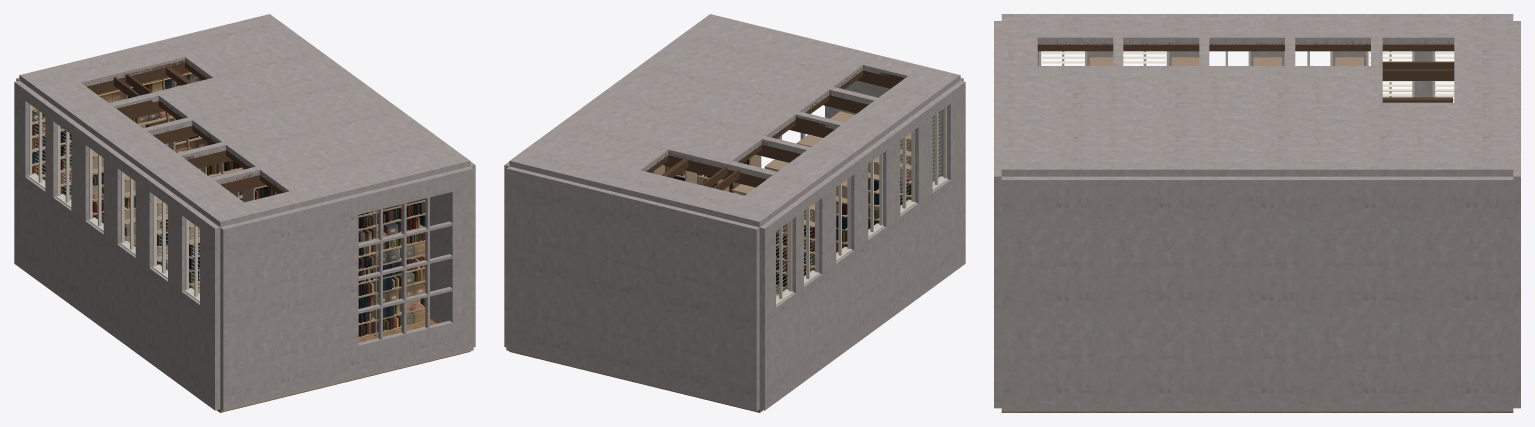
File: archive.glb
3 renders of one model, left to right at view 1: azimuth 30°, elevation 25°; view 2: azimuth 150°, elevation 25°; view 3: azimuth 270°, elevation 25°, orthographic. The views are drawn at different scales.
Visible parts, largest first — view 1: Archive_shell, Archive_books; view 2: Archive_shell, Archive_books; view 3: Archive_shell.
Part boxes in pixels (x1,y1,x2,y2): Archive_shell: (14,14,475,412); Archive_books: (32,72,425,336); Archive_shell: (504,14,965,412); Archive_books: (665,159,911,286); Archive_shell: (994,14,1520,412).
Size of the model in its own units: 7.5 by 5.25 by 10.3.
45 materials, 17 textured.
